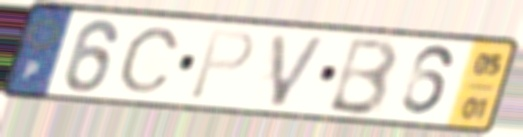6: (60, 16, 121, 95), (399, 42, 458, 120)
B: (323, 35, 402, 119)
C: (115, 25, 184, 95)
P: (185, 27, 258, 103)
V: (267, 30, 332, 110)
